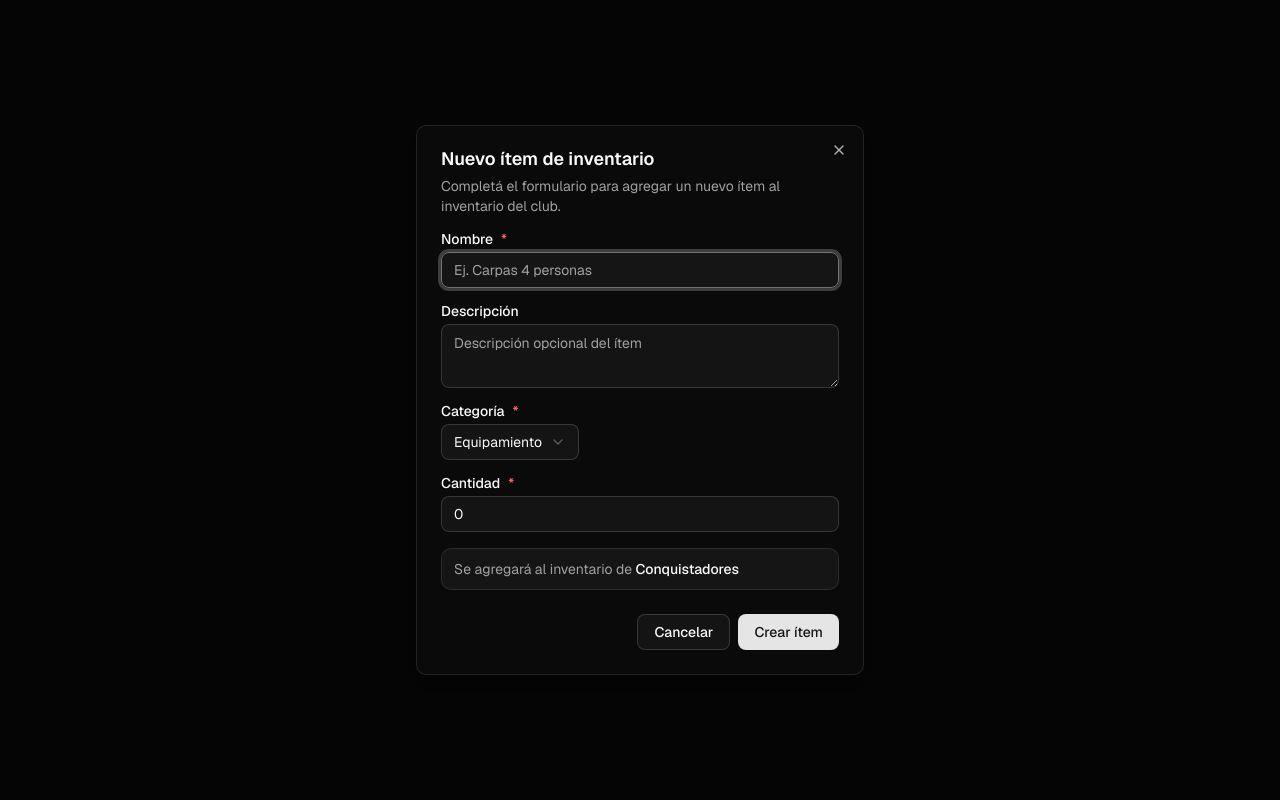
Test case: InventoryFormDialog › marks amount field aria-invalid when value is negative
The image size is (1280, 800).
Type "-1" into the number field with placeholder "0" at [640, 514], box x1=441 y1=496 x2=839 y2=532
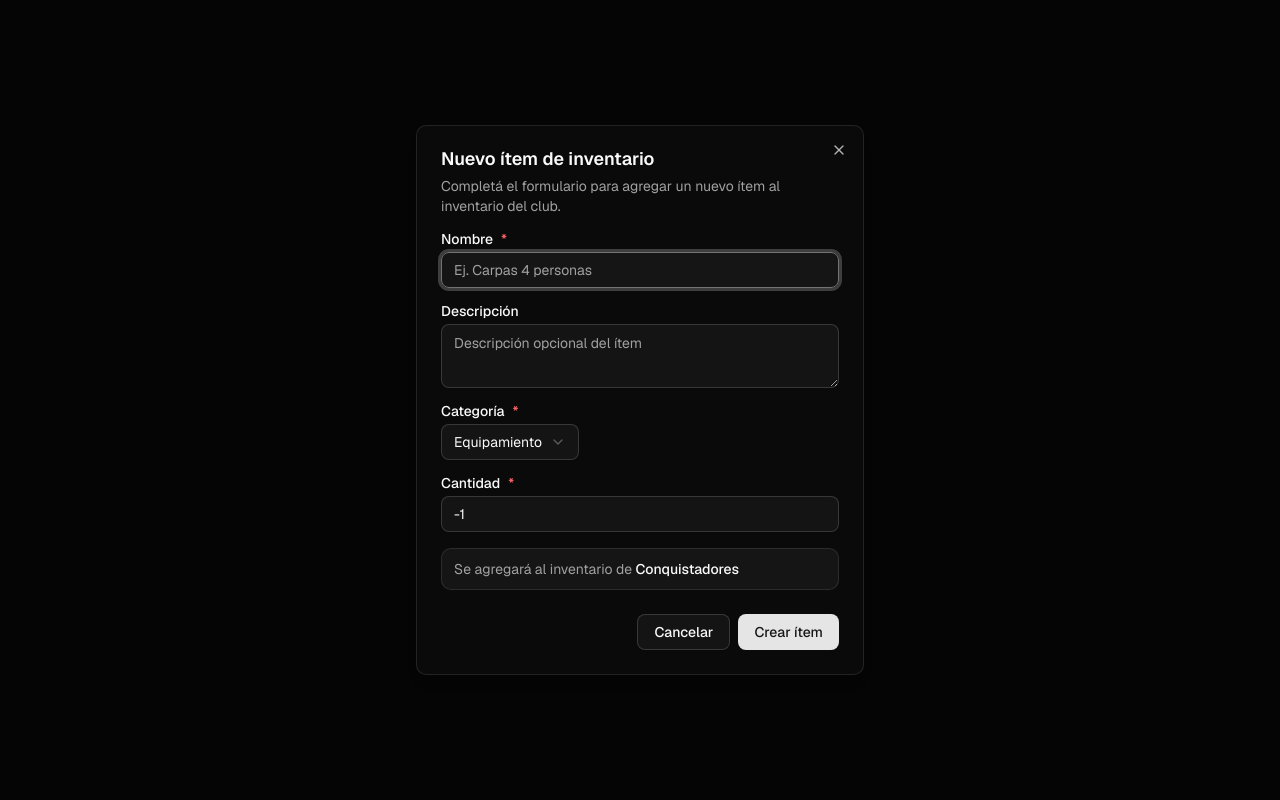
Submit the form, box x1=441 y1=232 x2=839 y2=650
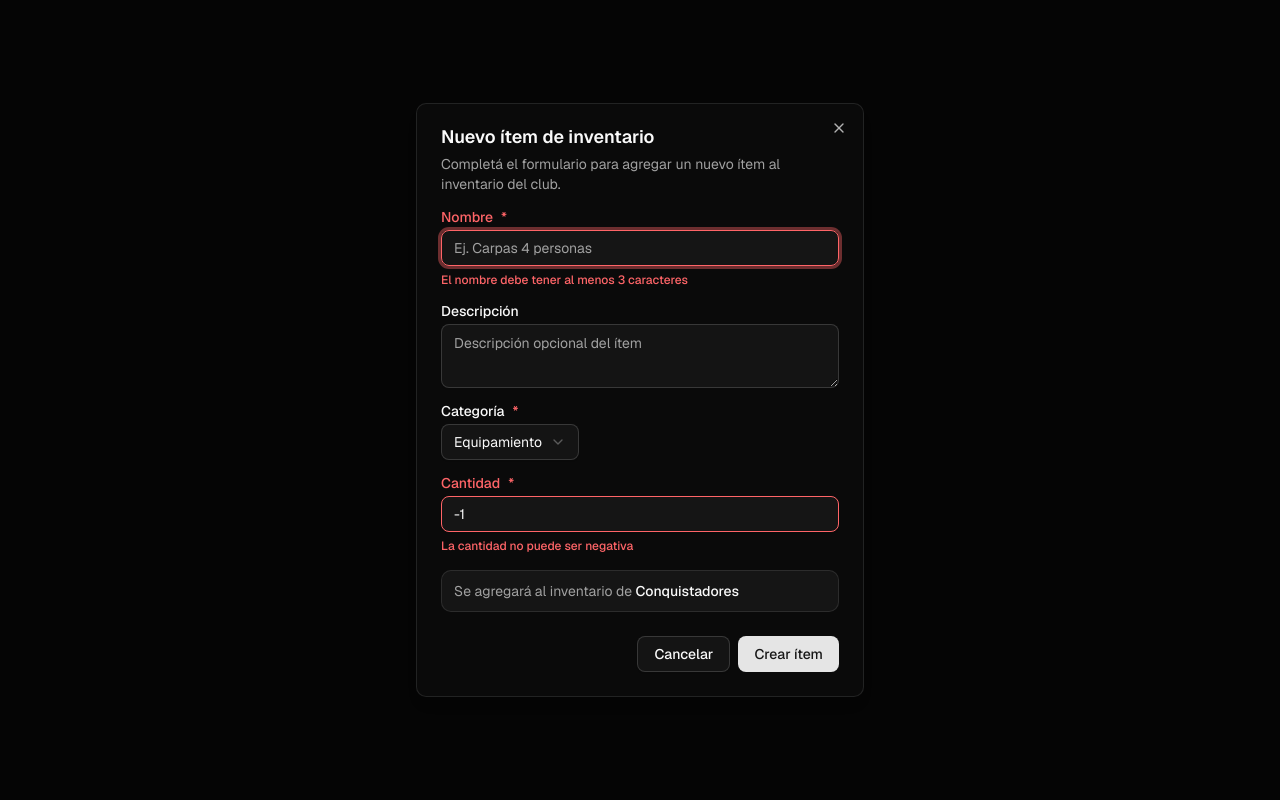
Now the text "La cantidad no puede ser negativa" is shown, box x1=441 y1=538 x2=633 y2=554
